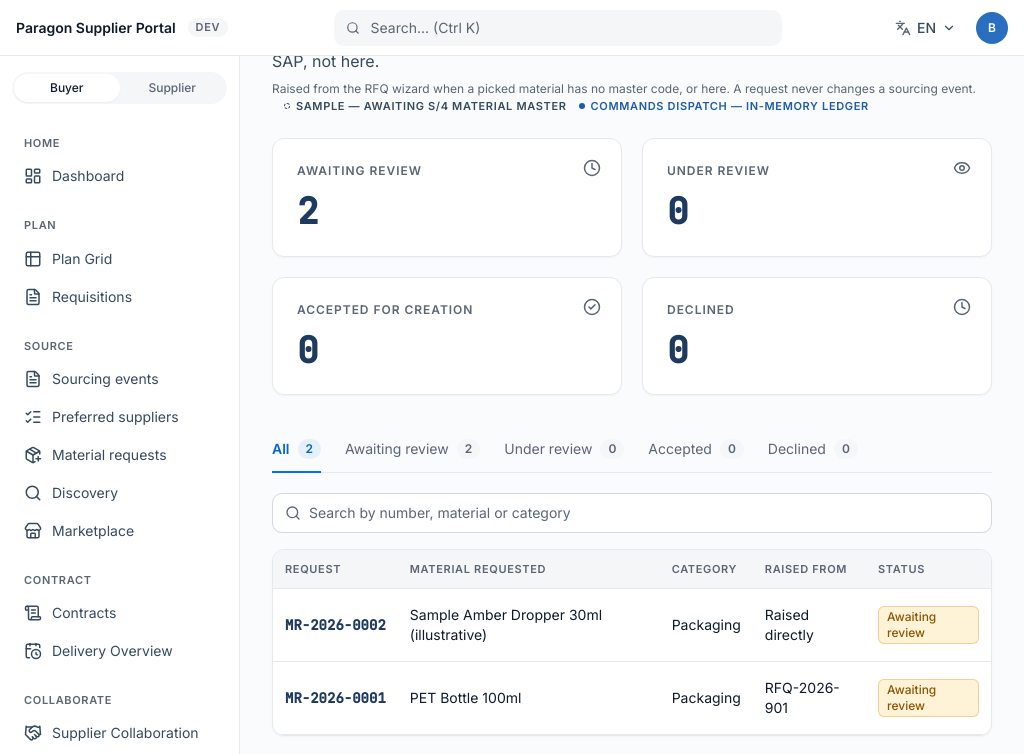
the review and decision acts, per verb › ⚠️ A PROCUREMENT SEAT GETS THE REVIEW NOTICE, not a live button
(page scrolled)
Click the text "MR-2026-0001" at (632, 698), box x1=273 y1=662 x2=991 y2=735
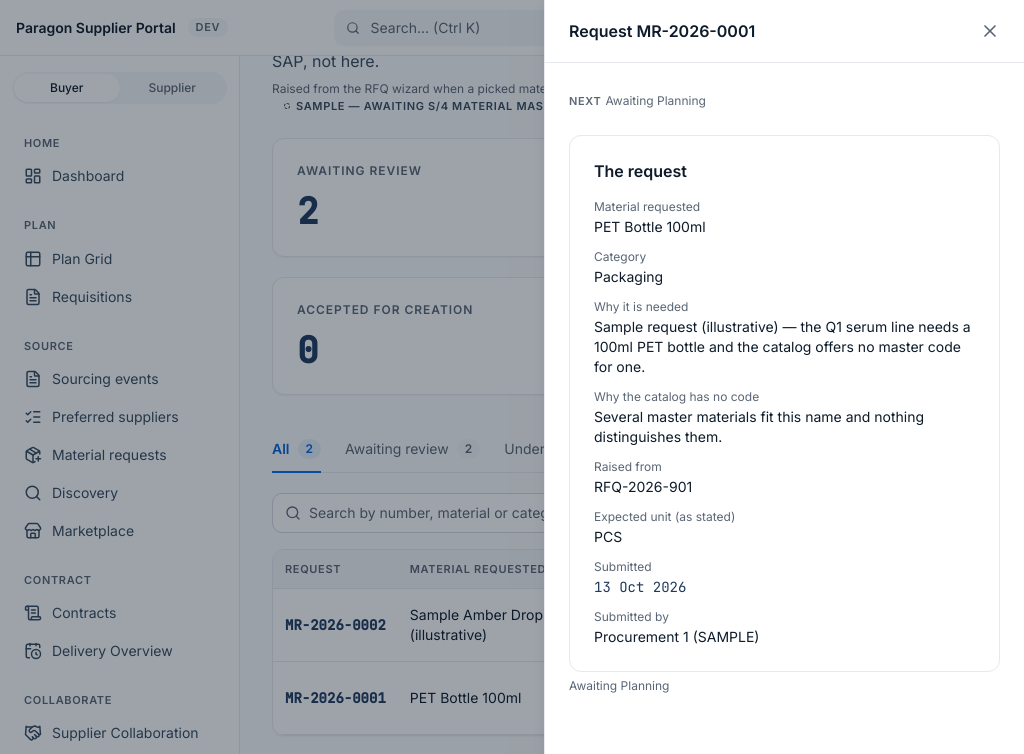
Result: the text "Awaiting Planning" is shown at x1=569 y1=678 x2=669 y2=693
